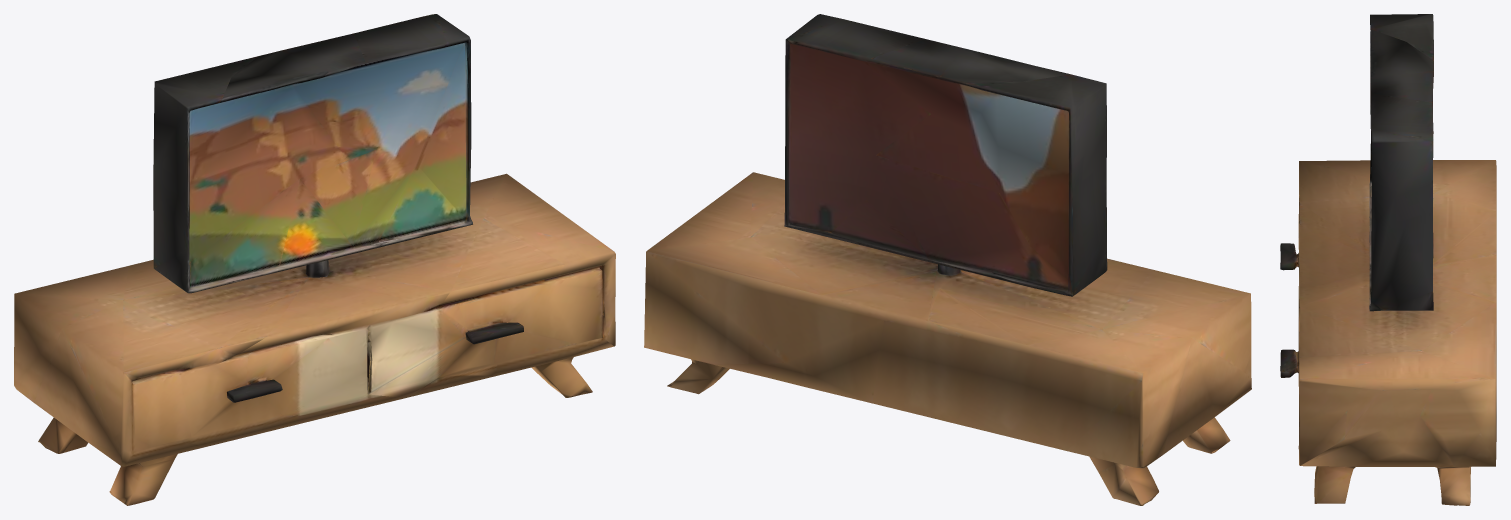
Rendered from tv-stand.glb.
3 renders of one model, left to right at view 1: azimuth 30°, elevation 25°; view 2: azimuth 150°, elevation 25°; view 3: azimuth 270°, elevation 25°, orthographic. The views are drawn at different scales.
Size of the model in its own units: 2 by 1.37 by 0.8315.
1 material, 1 textured.
